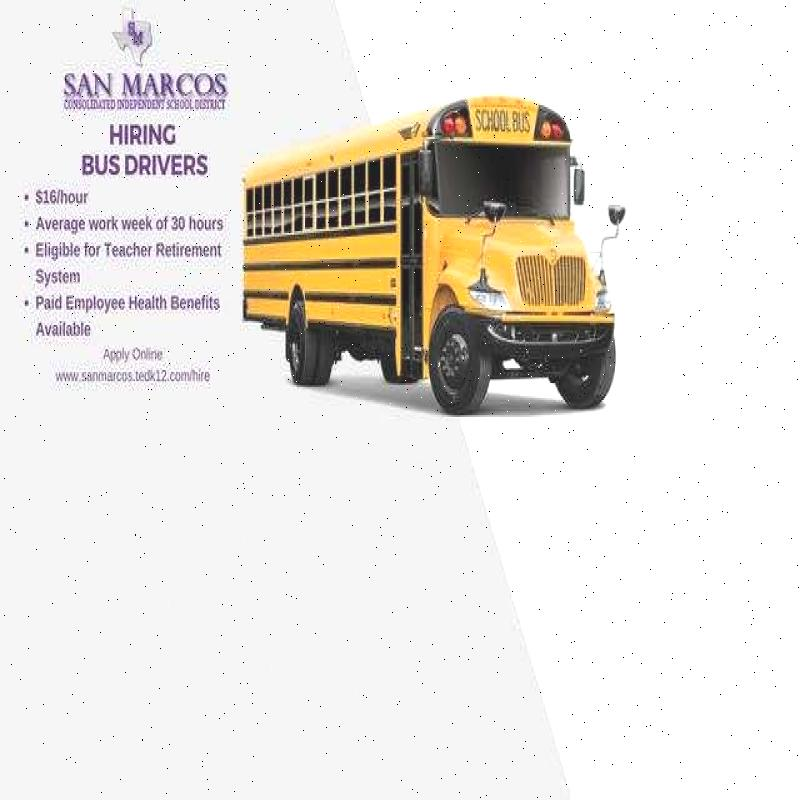bus: (244, 82, 654, 455)
